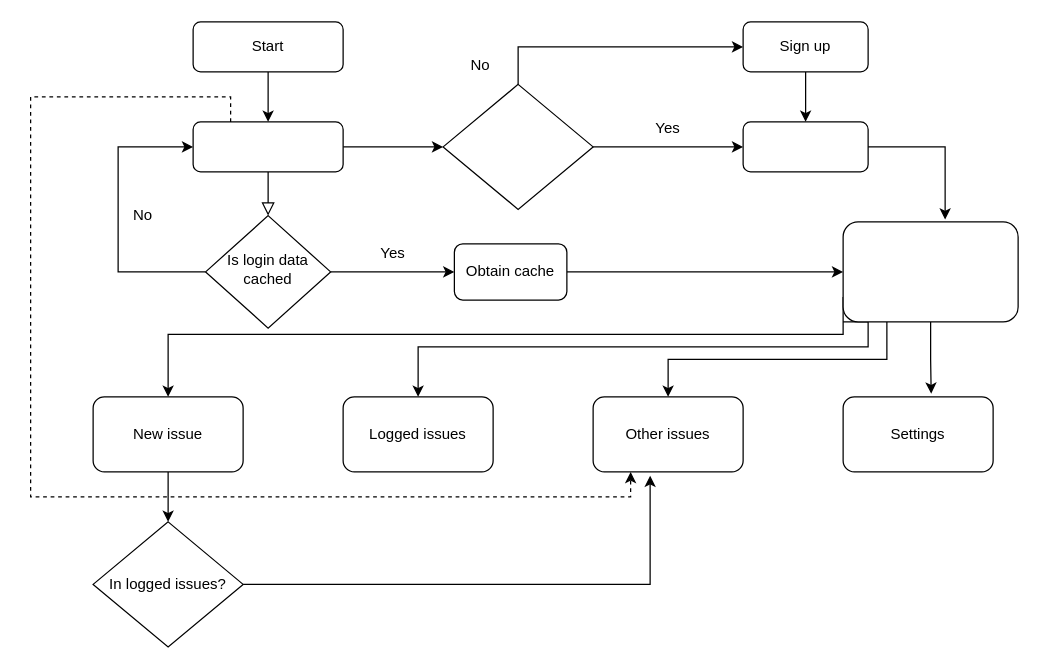
The diagram is 1040 pixels wide and 669 high, and some of its shapes have lost their labels. Here are the shapes that lost their labels. From the top down, the centre of each, then its label:
(267,146): Dashboard
(517,146): Has account
(805,146): Login
(930,271): Personalized Dashboard
